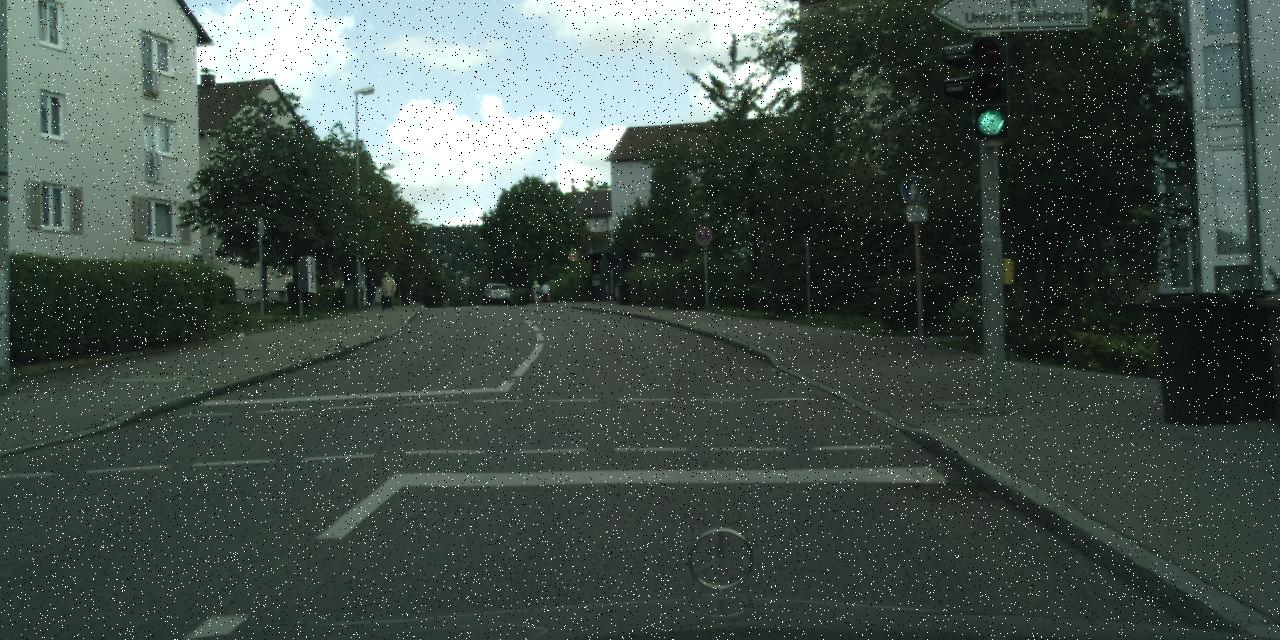ped: (380, 272, 394, 310), (530, 280, 540, 306), (540, 281, 549, 306), (524, 290, 530, 306)
